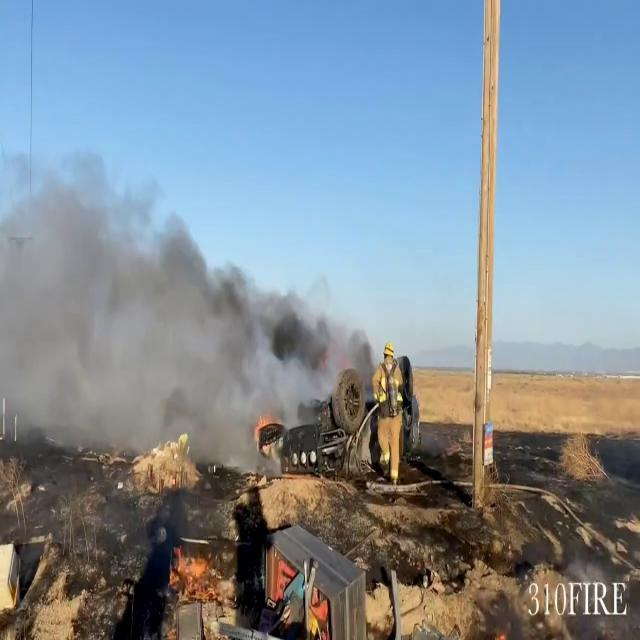Smoke: (0, 142, 371, 464)
